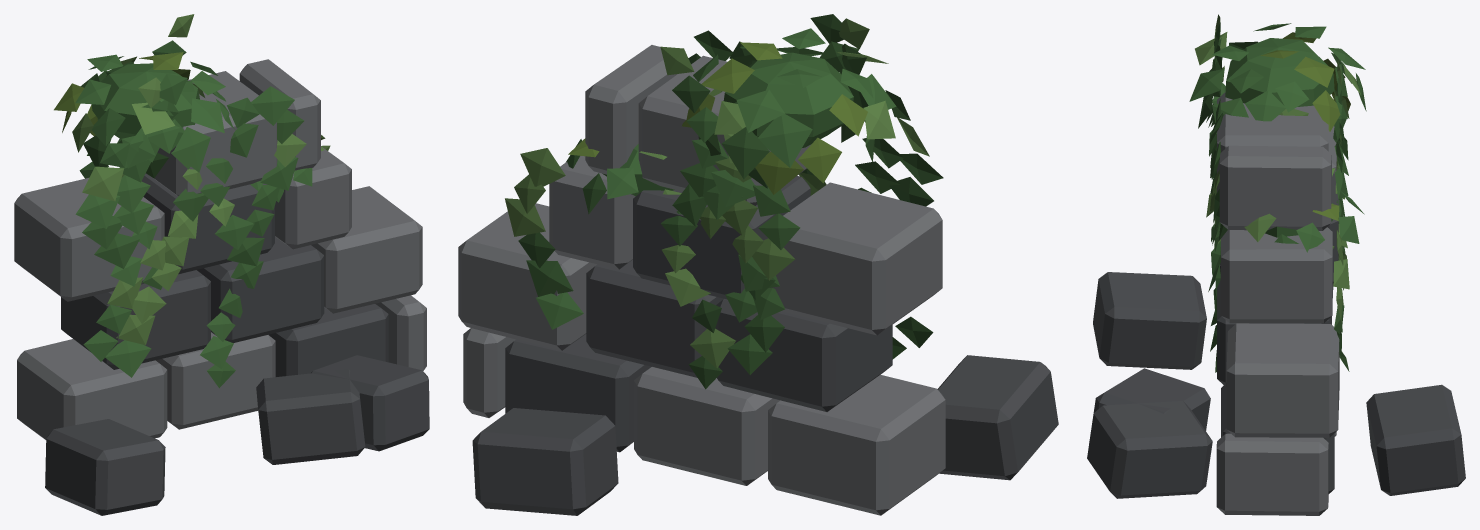
The model's file is ivy_wall.glb.
3 renders of one model, left to right at view 1: azimuth 30°, elevation 25°; view 2: azimuth 150°, elevation 25°; view 3: azimuth 270°, elevation 25°, orthographic. The views are drawn at different scales.
Parts seen in each view (by area): view 1: IvyWall; view 2: IvyWall; view 3: IvyWall.
Part boxes in pixels (x1,y1,x2,y2): IvyWall: (14,14,429,515); IvyWall: (458,14,1058,515); IvyWall: (1087,14,1465,515).
Bounding box in the file's own units: 1.09 × 0.987 × 0.8825.
